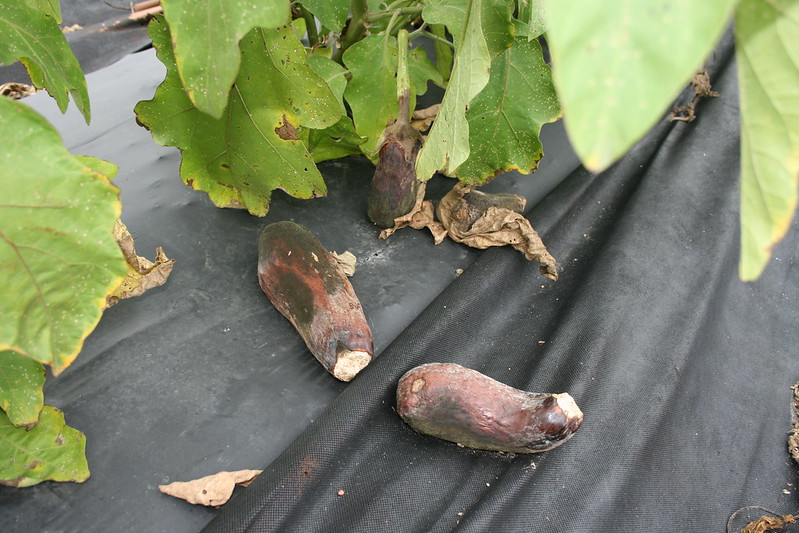Eggplant_PhytophthoraBlight: (251, 206, 383, 386), (397, 358, 593, 459), (346, 80, 445, 226)
